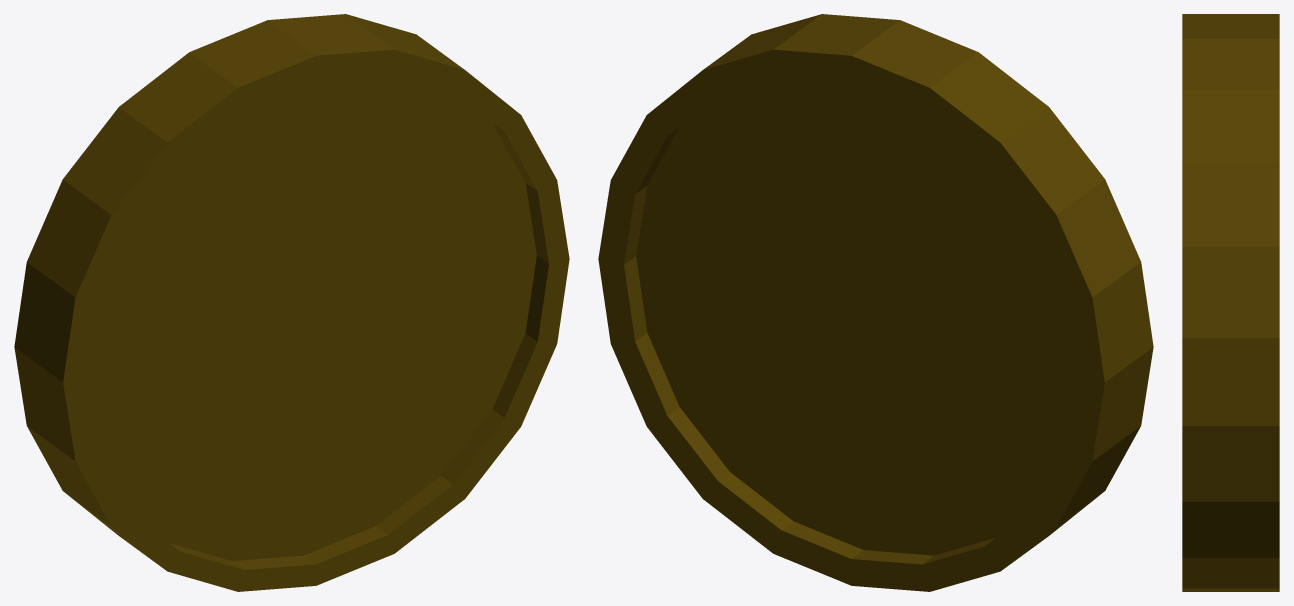
File: lib-coin-collectable.fbx
3 views of the same model, side by side, from view 1: azimuth 30°, elevation 25°; view 2: azimuth 150°, elevation 25°; view 3: azimuth 270°, elevation 25° (orthographic).
Visible parts, largest first — view 1: pCoin; view 2: pCoin; view 3: pCoin.
Boxes of the visible parts, bbox=[...] form: pCoin: bbox=[14, 14, 569, 591]; pCoin: bbox=[598, 14, 1153, 591]; pCoin: bbox=[1182, 14, 1279, 591].
Bounding box in the file's own units: 0.6032 × 0.6032 × 0.1005.
